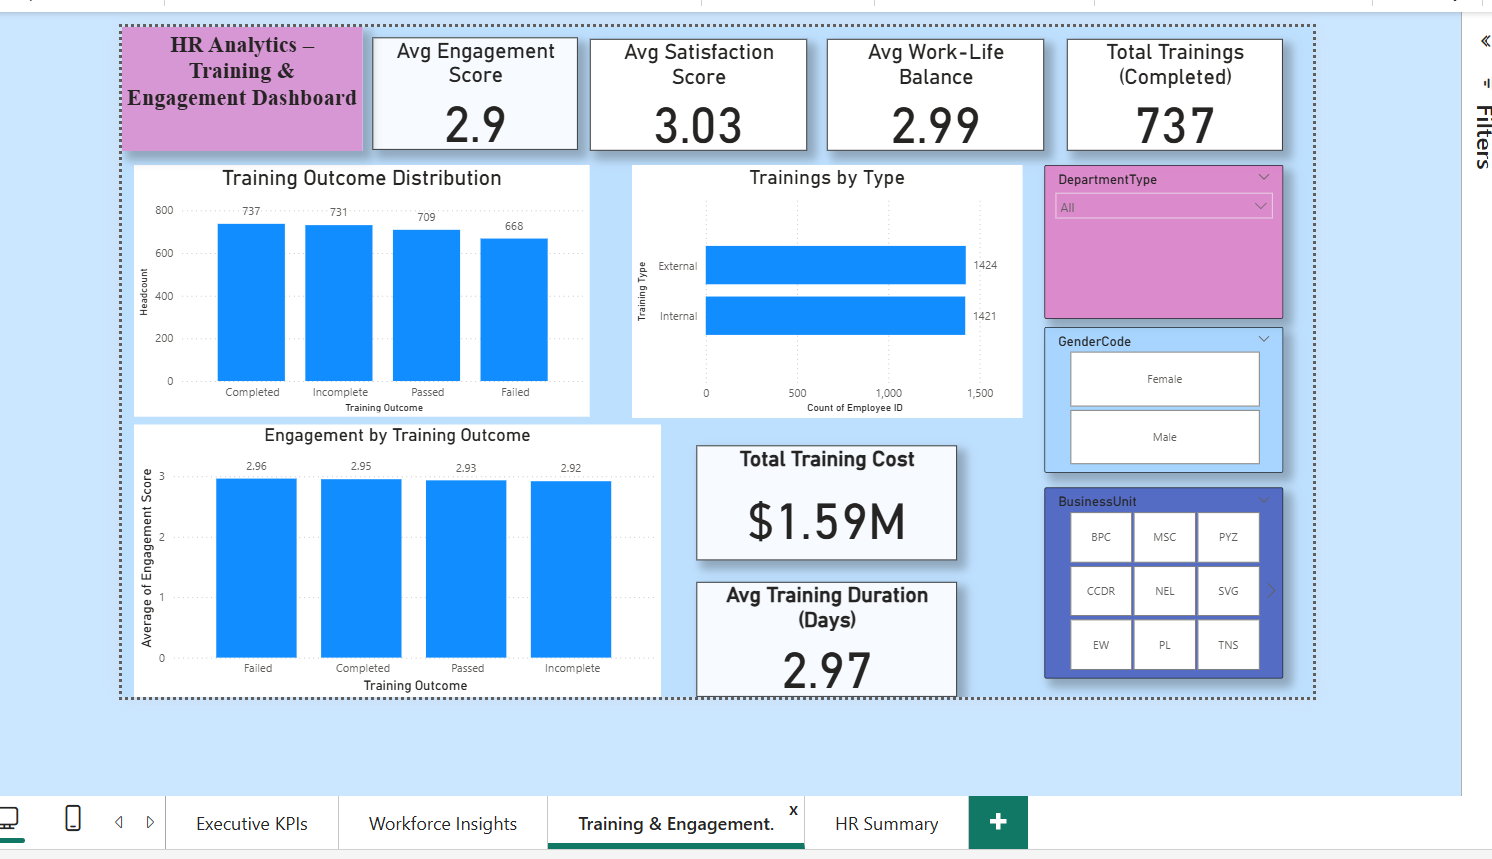

This screenshot's page, from the dashboard's own definition file:
{"tool":"powerbi","page":{"name":"Training & Engagement.","canvas":[1280,720],"ordinal":2},"visuals":[{"type":"card","title":"Avg Engagement Score","fields":{"Values":["HR_Data_Analysis.Avg Engagement Score"]},"box":[269.4,11.3,221,121],"z":0},{"type":"card","title":"Avg Satisfaction Score","fields":{"Values":["HR_Data_Analysis.Avg Satisfaction Score"]},"box":[503.3,13.3,233.3,120],"z":1000},{"type":"card","title":"Avg Work-Life Balance","fields":{"Values":["HR_Data_Analysis.Avg Work-Life Balance"]},"box":[758.3,13.3,233.3,120],"z":2000},{"type":"card","title":"Total Trainings (Completed)","fields":{"Values":["HR_Data_Analysis.Total Trainings (Completed)"]},"box":[1016.7,13.3,231.7,120],"z":3000},{"type":"clusteredColumnChart","title":"Training Outcome Distribution","fields":{"Category":["HR_Data_Analysis.Training Outcome"],"Y":["HR_Data_Analysis.Headcount"]},"box":[12.9,148.4,490.3,271],"z":4000},{"type":"clusteredBarChart","title":"Trainings by Type","fields":{"Category":["HR_Data_Analysis.Training Type"],"Y":["CountNonNull(HR_Data_Analysis.Employee ID)"]},"box":[548.3,148.3,420,271.7],"z":4001},{"type":"clusteredColumnChart","title":"Engagement by Training Outcome","fields":{"Category":["HR_Data_Analysis.Training Outcome"],"Y":["Avg(HR_Data_Analysis.Engagement Score)"]},"box":[13.3,426.7,566.7,293.3],"z":4002},{"type":"card","title":"Total Training Cost","fields":{"Values":["Sum(HR_Data_Analysis.Training Cost)"]},"box":[618.3,450,280,123.3],"z":4003},{"type":"card","title":"Avg Training Duration (Days)","fields":{"Values":["HR_Data_Analysis.Avg Training Duration (Days)"]},"box":[618.3,596.7,280,123.3],"z":4004},{"type":"slicer","fields":{"Values":["HR_Data_Analysis.DepartmentType"]},"box":[991.7,148.3,256.7,165],"z":4005},{"type":"slicer","fields":{"Values":["HR_Data_Analysis.GenderCode"]},"box":[991.7,323.3,256.7,156.7],"z":4006},{"type":"slicer","fields":{"Values":["HR_Data_Analysis.BusinessUnit"]},"box":[991.7,495,256.7,205],"z":4007},{"type":"textbox","box":[0,0,258.3,133.3],"z":4008}]}

Visuals, with their boxes on the page's 1280x720 design canvas (x1, y1, x2, y2). These are canvas units, not pixel positions in the 1492x859 screenshot, which may show the page scaled, cropped or inside an application window:
"Avg Engagement Score" card: region(269, 11, 490, 132)
"Avg Satisfaction Score" card: region(503, 13, 737, 133)
"Avg Work-Life Balance" card: region(758, 13, 992, 133)
"Total Trainings (Completed)" card: region(1017, 13, 1248, 133)
"Training Outcome Distribution" clusteredColumnChart: region(13, 148, 503, 419)
"Trainings by Type" clusteredBarChart: region(548, 148, 968, 420)
"Engagement by Training Outcome" clusteredColumnChart: region(13, 427, 580, 720)
"Total Training Cost" card: region(618, 450, 898, 573)
"Avg Training Duration (Days)" card: region(618, 597, 898, 720)
slicer - HR_Data_Analysis.DepartmentType: region(992, 148, 1248, 313)
slicer - HR_Data_Analysis.GenderCode: region(992, 323, 1248, 480)
slicer - HR_Data_Analysis.BusinessUnit: region(992, 495, 1248, 700)
textbox: region(0, 0, 258, 133)
